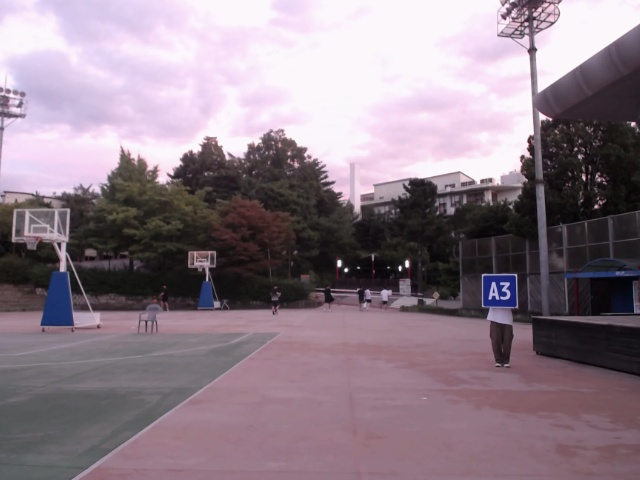delivery_a3: (482, 274, 518, 307)
